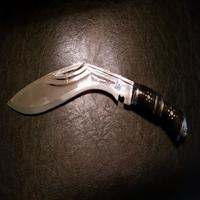knife: (5, 64, 177, 142), (3, 46, 185, 113)
